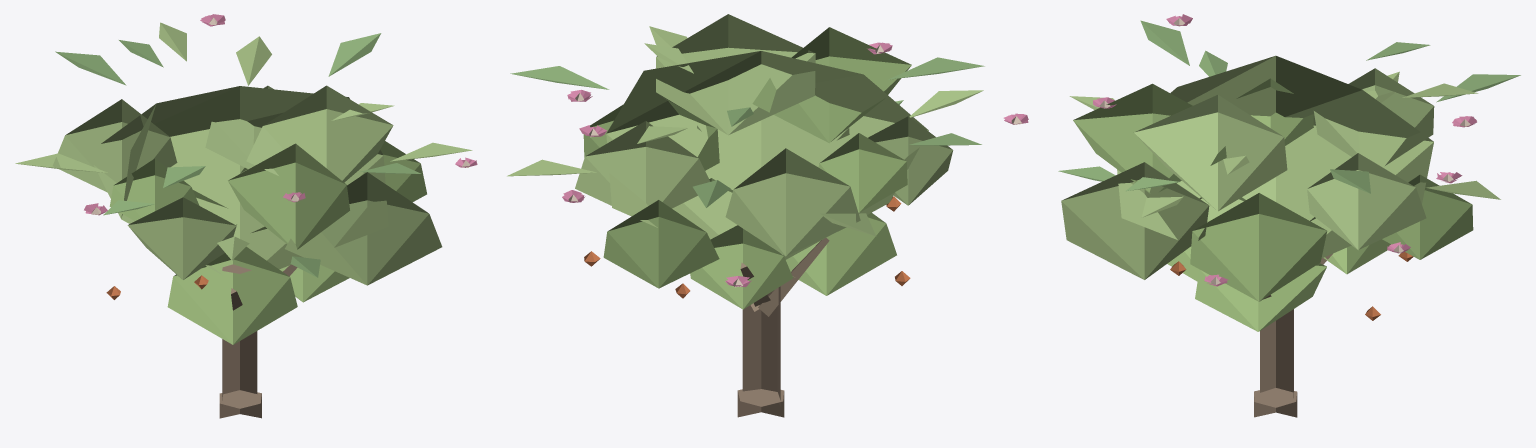
File: shu.mangguo__bloom.glb
The picture shows the model from 3 angles, left to right: view 1: azimuth 30°, elevation 25°; view 2: azimuth 150°, elevation 25°; view 3: azimuth 270°, elevation 25°; orthographic projection. The views are drawn at different scales.
Parts seen in each view (by area): view 1: shu.mangguo__bloom; view 2: shu.mangguo__bloom; view 3: shu.mangguo__bloom.
Part boxes in pixels (x1=…): shu.mangguo__bloom: x1=15, y1=14, x2=477, y2=418; shu.mangguo__bloom: x1=507, y1=14, x2=1028, y2=417; shu.mangguo__bloom: x1=1058, y1=14, x2=1520, y2=417.
Size of the model in its own units: 14.17 by 11.4 by 13.39.
